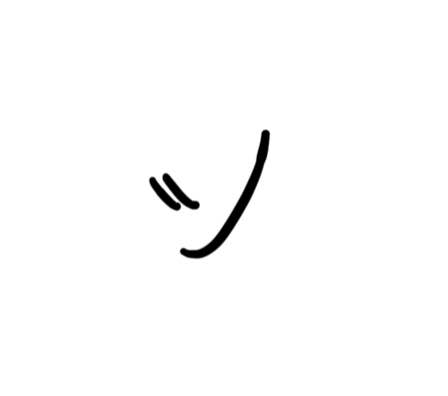shi: (139, 125, 275, 266)
